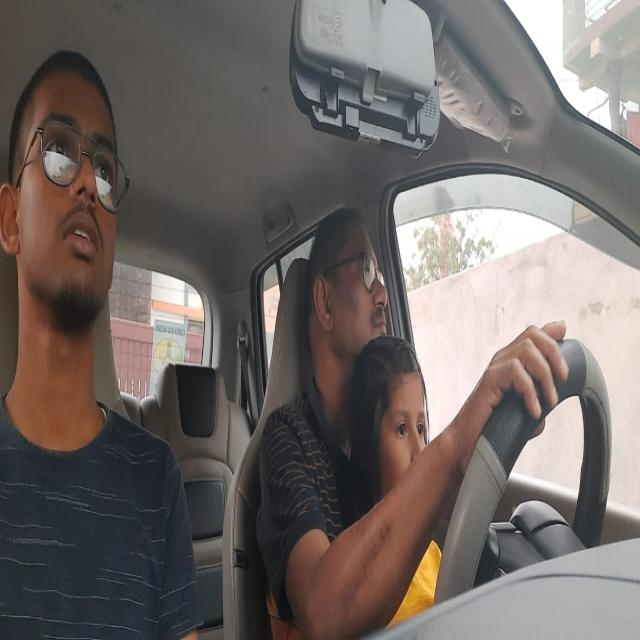child: (349, 332, 431, 496)
person: (0, 36, 126, 340), (305, 193, 392, 348)
